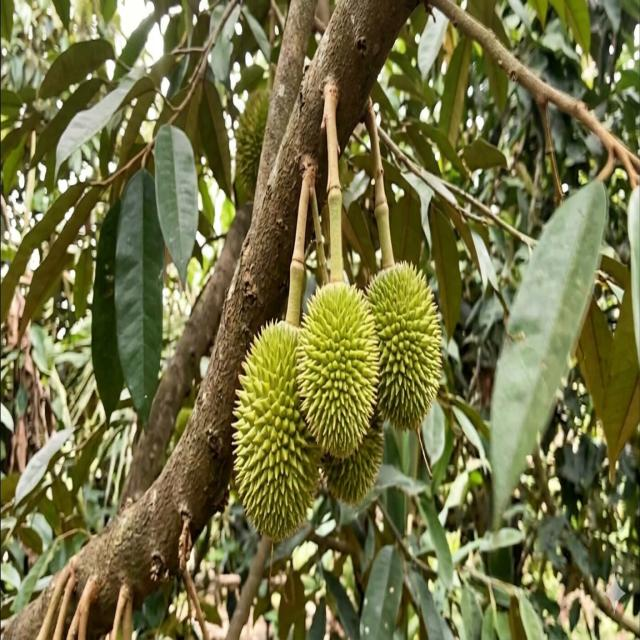immature: (231, 318, 321, 541), (295, 280, 382, 458), (363, 261, 444, 431), (234, 88, 270, 200)
